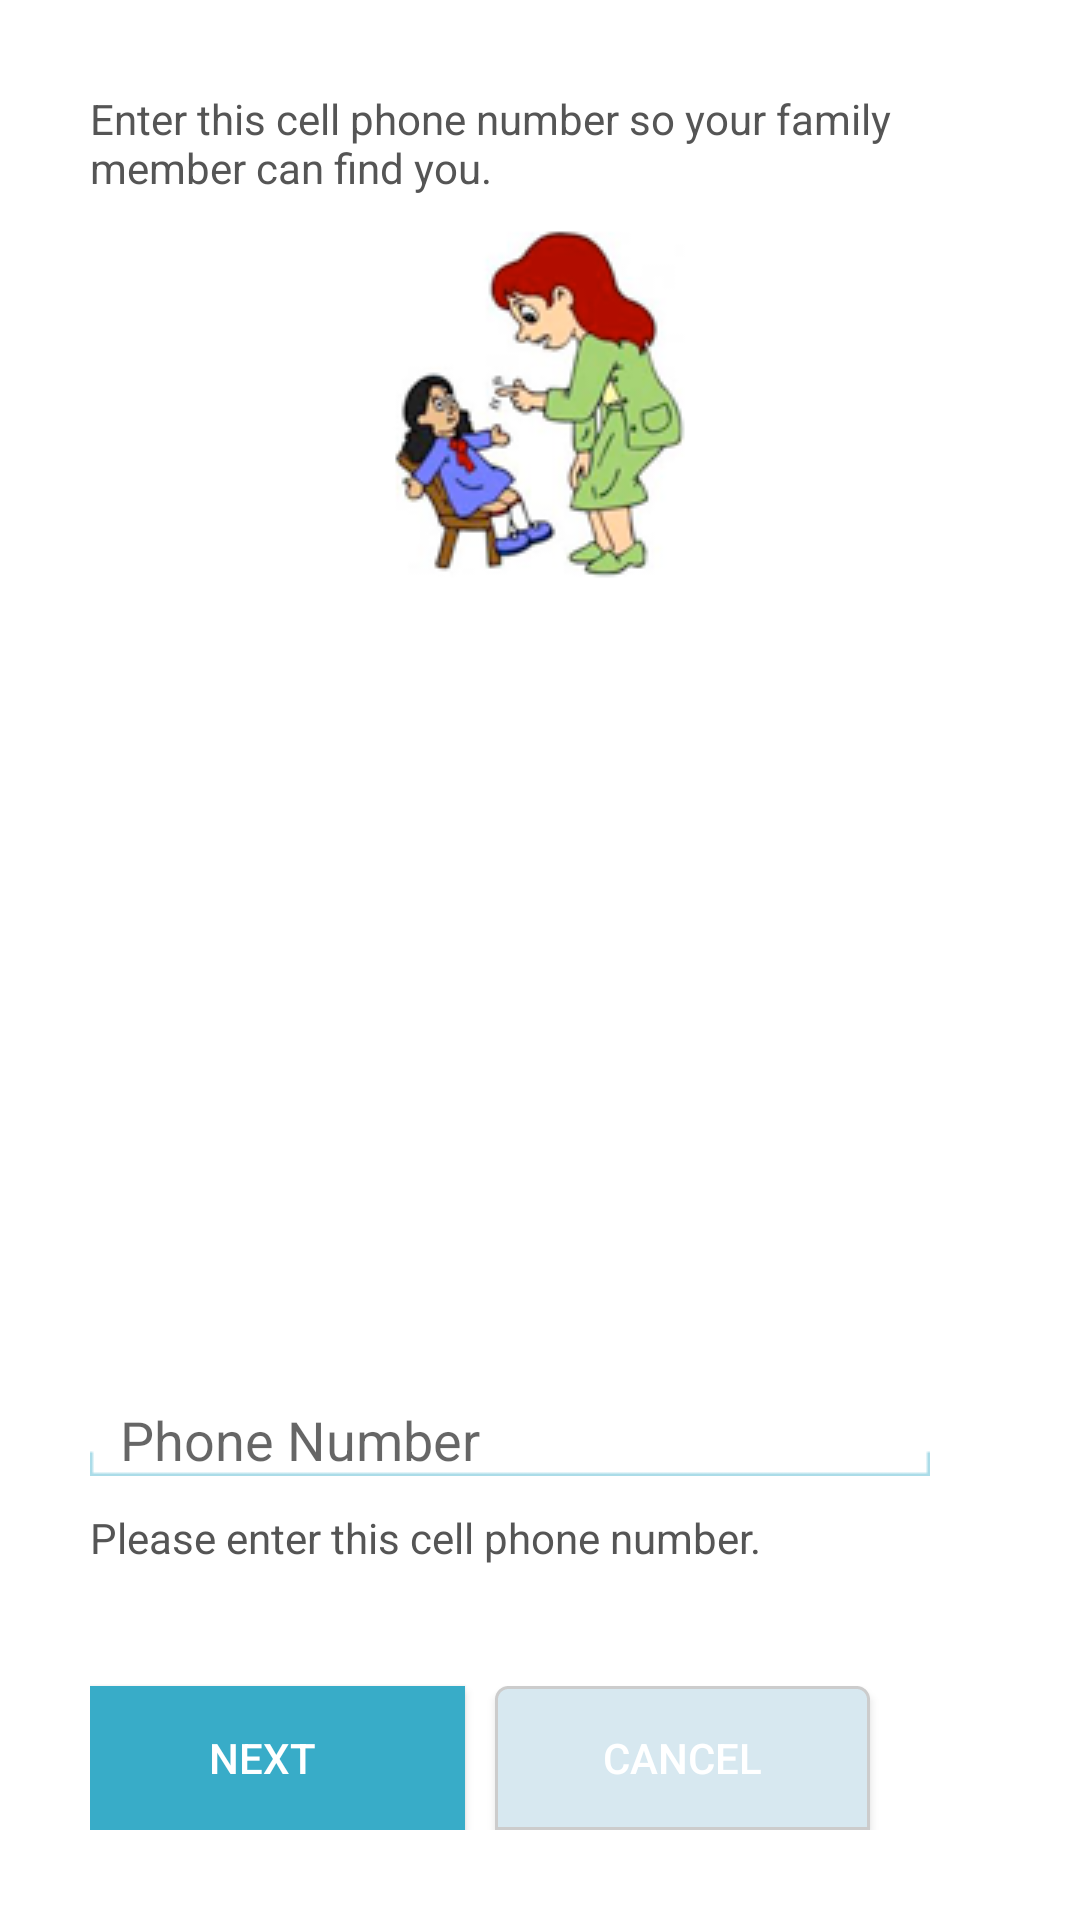

Screen size 1080 × 1920. Icon name, then its center in pixels as point (x, y):
binding cartoon: point (539, 404)
